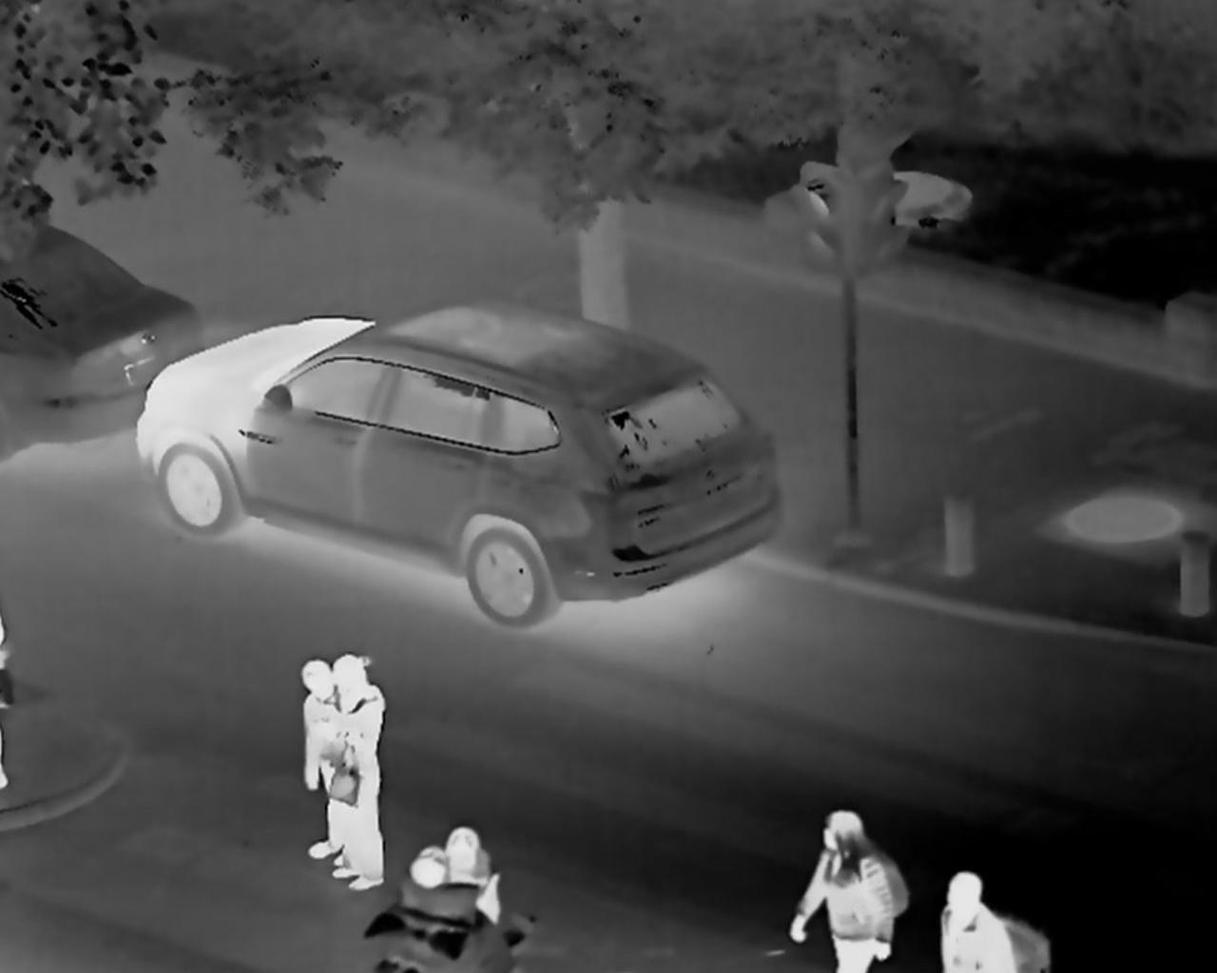person: (326, 652, 406, 886), (805, 796, 882, 973), (297, 658, 347, 854), (943, 865, 1018, 973), (435, 823, 499, 926)
